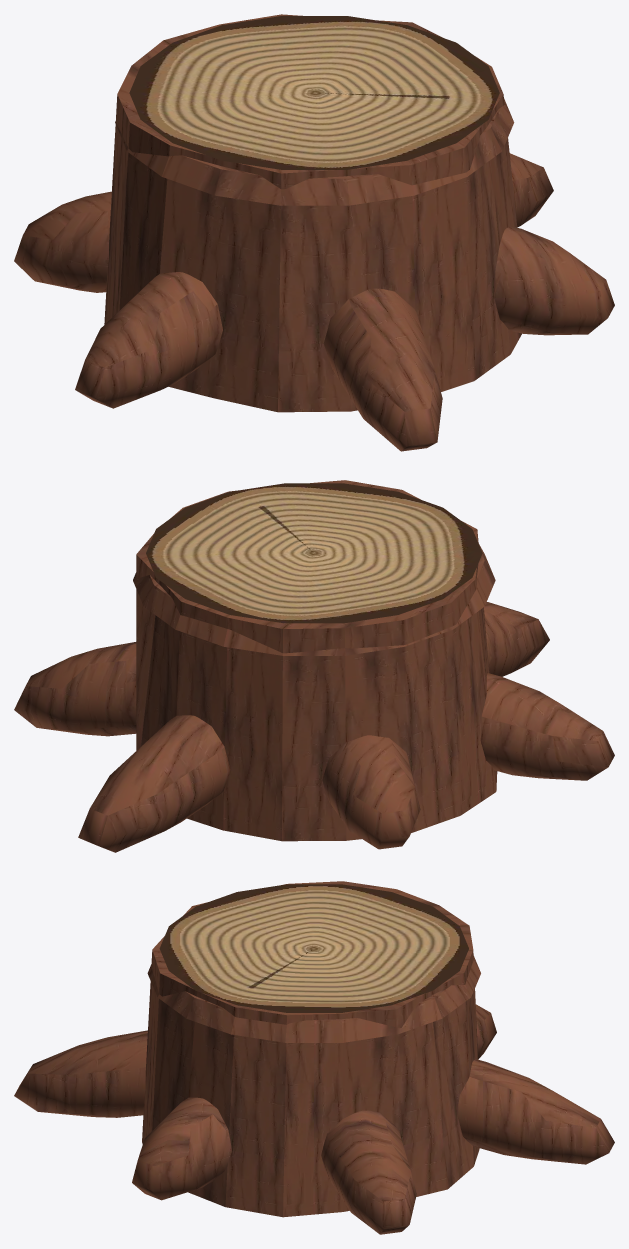
File: stump.glb
The picture shows the model from 3 angles, top to bottom: view 1: azimuth 30°, elevation 25°; view 2: azimuth 150°, elevation 25°; view 3: azimuth 270°, elevation 25°; orthographic projection. The views are drawn at different scales.
Visible parts, largest first — view 1: cylinder; view 2: cylinder; view 3: cylinder.
Part boxes in pixels (x1=…): cylinder: x1=14, y1=14, x2=614, y2=451; cylinder: x1=14, y1=480, x2=614, y2=852; cylinder: x1=14, y1=881, x2=614, y2=1234.
Size of the model in its own units: 1.58 by 0.619 by 1.74.
Materials: 2 (2 with a texture image).
